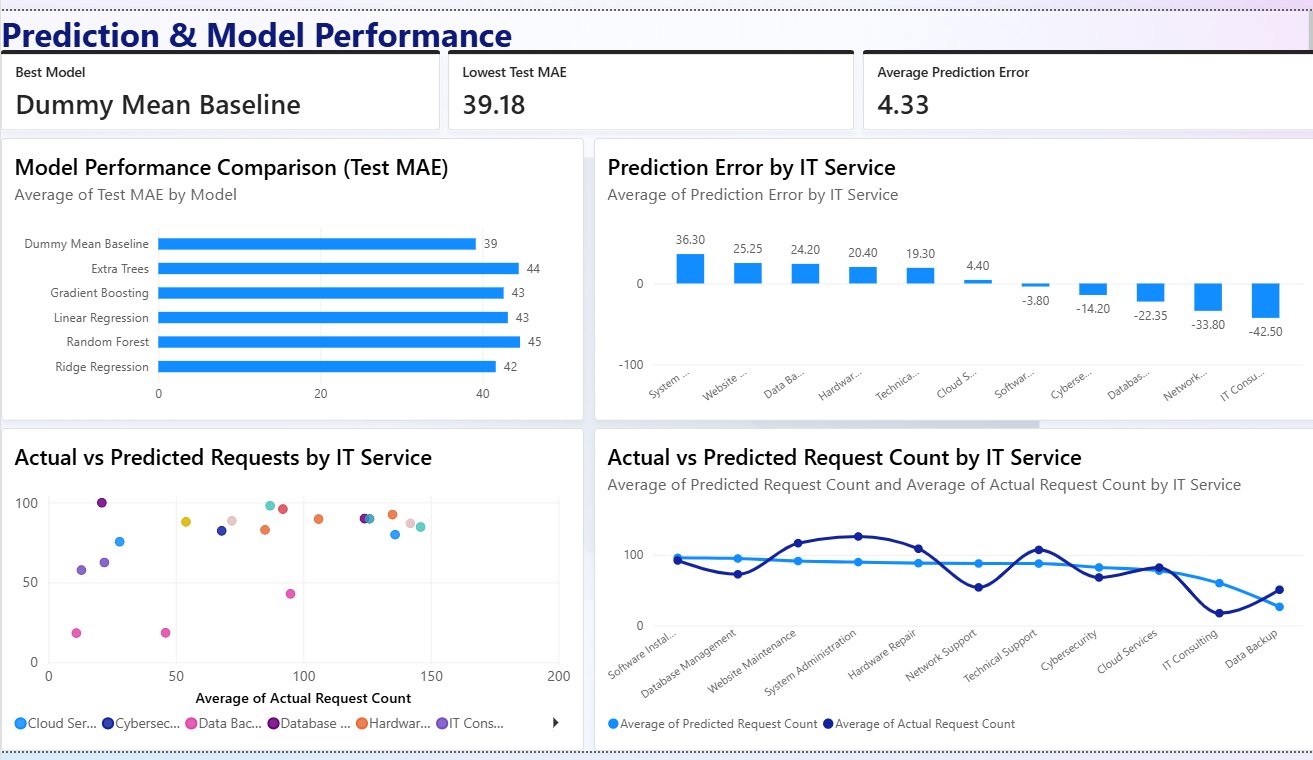

The page's visual inventory and layout, read from the dashboard file:
{"tool":"powerbi","page":{"name":"Page 3","canvas":[1280,720],"ordinal":2},"visuals":[{"type":"textbox","box":[0,0,1280,51.6],"z":0},{"type":"clusteredBarChart","title":"Model Performance Comparison (Test MAE)","fields":{"Category":["Model Comparison.Model"],"Y":["Avg(Model Comparison.Test MAE)"]},"box":[0,123.5,567.1,275.3],"z":1},{"type":"scatterChart","title":"Actual vs Predicted Requests by IT Service","fields":{"Category":["Holdout Predictions.Prediction ID"],"Series":["Holdout Predictions.IT Service"],"X":["Avg(Holdout Predictions.Actual Request Count)"],"Y":["Avg(Holdout Predictions.Predicted Request Count)"]},"box":[0,405.6,567.1,314.2],"z":2},{"type":"clusteredColumnChart","title":"Prediction Error by IT Service","fields":{"Category":["Holdout Predictions.IT Service"],"Y":["Avg(Holdout Predictions.Prediction Error)"]},"box":[576.8,123.5,703.2,275.3],"z":3},{"type":"lineChart","title":"Actual vs Predicted Request Count by IT Service","fields":{"Category":["Holdout Predictions.IT Service"],"Y":["Avg(Holdout Predictions.Predicted Request Count)","Avg(Holdout Predictions.Actual Request Count)"]},"box":[576.8,405.6,703.2,314.2],"z":4},{"type":"cardVisual","fields":{"Data":["Model Comparison.Best Model"]},"box":[0,37.9,428,78.8],"z":5},{"type":"cardVisual","fields":{"Data":["Min(Model Comparison.Test MAE)"]},"box":[434.8,37.9,395.9,78.8],"z":6},{"type":"cardVisual","fields":{"Data":["Avg(Holdout Predictions.Prediction Error)"]},"box":[838.4,37.9,441.6,78.8],"z":7}]}

Visuals, with their boxes in screenshot pixels (x1, y1, x2, y2), scaled from the page's 1280x720 canvas onto the 1313x760 screenshot:
textbox: select_region(0, 0, 1312, 54)
"Model Performance Comparison (Test MAE)" clusteredBarChart: select_region(0, 130, 582, 421)
"Actual vs Predicted Requests by IT Service" scatterChart: select_region(0, 428, 582, 759)
"Prediction Error by IT Service" clusteredColumnChart: select_region(592, 130, 1312, 421)
"Actual vs Predicted Request Count by IT Service" lineChart: select_region(592, 428, 1312, 759)
cardVisual - Model Comparison.Best Model: select_region(0, 40, 439, 123)
cardVisual - Min(Model Comparison.Test MAE): select_region(446, 40, 852, 123)
cardVisual - Avg(Holdout Predictions.Prediction Error): select_region(860, 40, 1312, 123)
